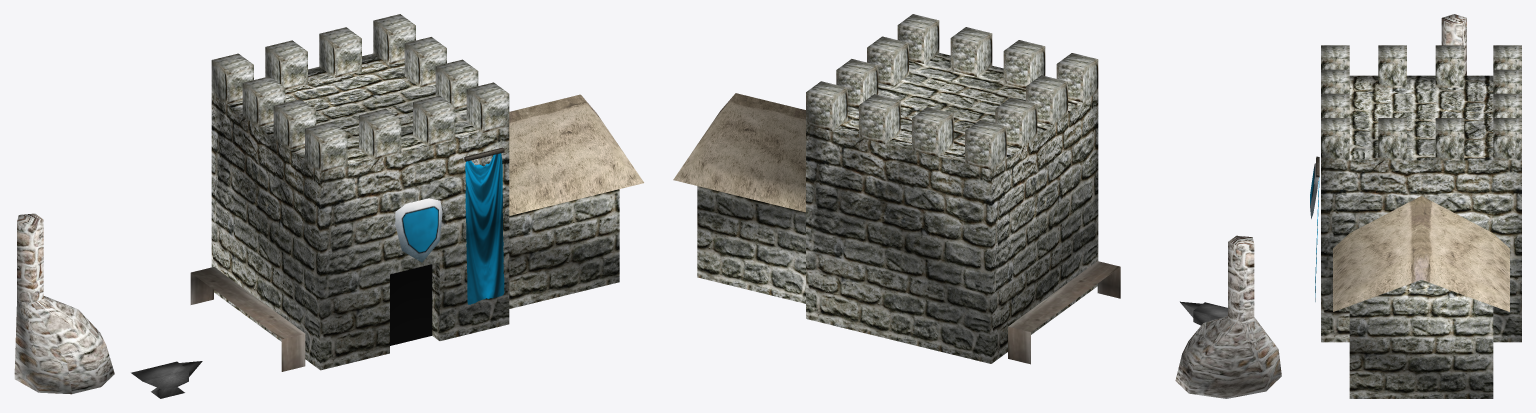
File: armory.DAE
3 views of the same model, side by side, from view 1: azimuth 30°, elevation 25°; view 2: azimuth 150°, elevation 25°; view 3: azimuth 270°, elevation 25° (orthographic). The views are drawn at different scales.
Visible parts, largest first — view 1: Box001; view 2: Box001; view 3: Box001.
Boxes of the visible parts, x1=… form: Box001: x1=14, y1=14, x2=643, y2=398; Box001: x1=673, y1=14, x2=1281, y2=398; Box001: x1=1310, y1=14, x2=1521, y2=398.
Size of the model in its own units: 72.3 by 25.31 by 28.26.
